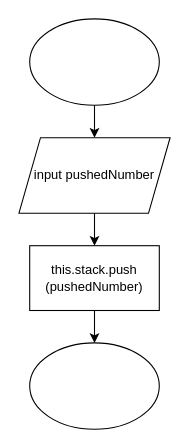
The diagram is 189 pixels wide and 448 high, and some of its shapes have lost their labels. The centre of each missing label's shape, as x and y in pixels:
"Start" goes at point (94, 61).
"Stop" goes at point (94, 385).
